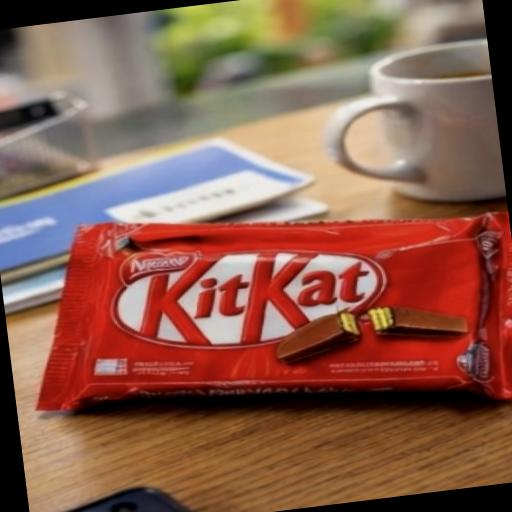kitkat: (29, 147, 512, 510)
